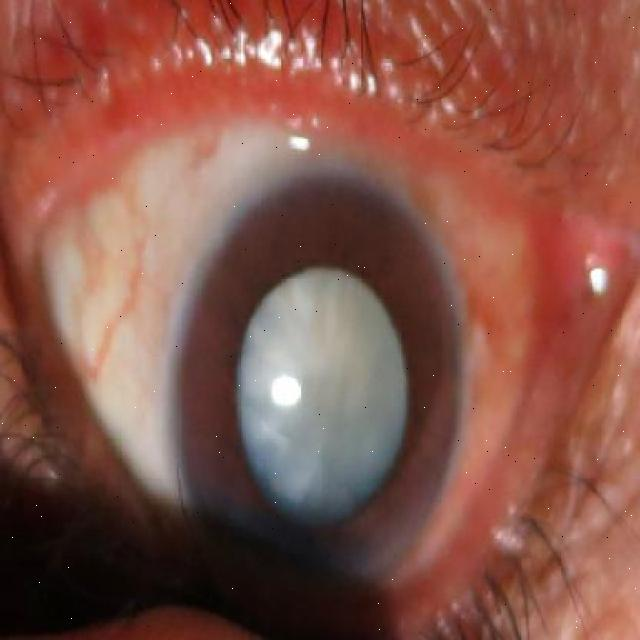Cataract: (183, 178, 464, 592)
